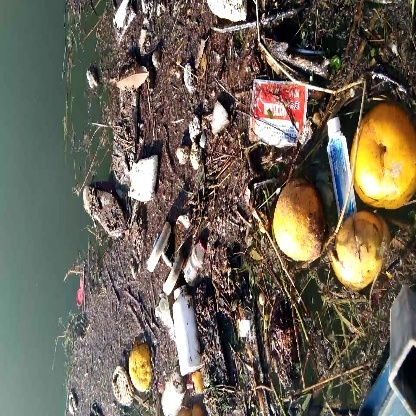ball: (351, 100, 416, 209)
bottle: (168, 285, 209, 378)
